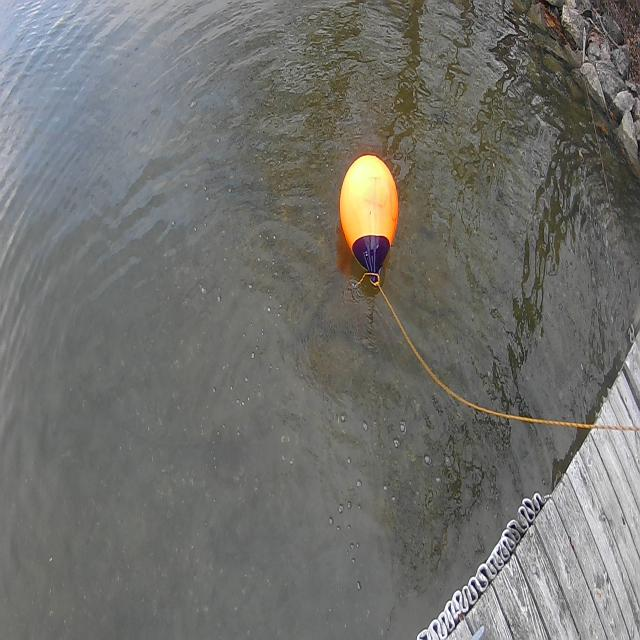Buoy: (334, 150, 404, 287)
